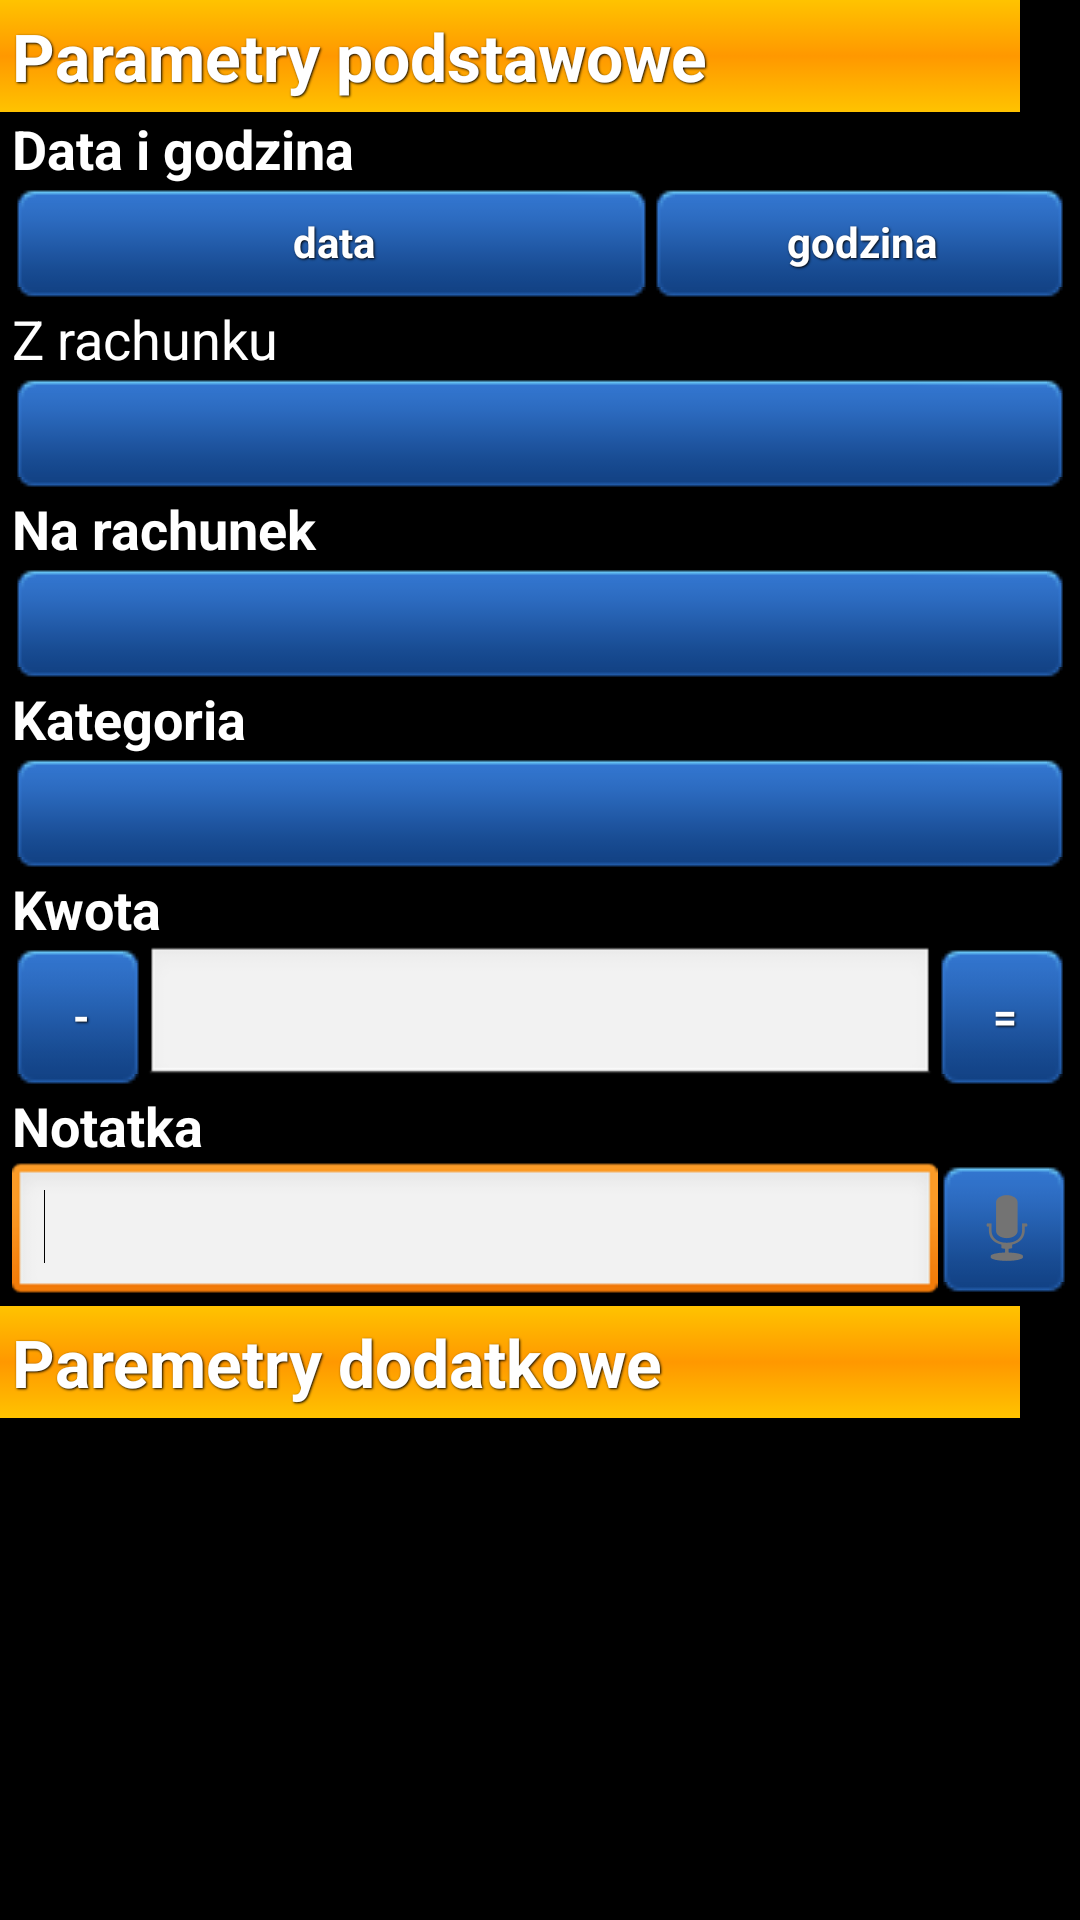

Where icons sit on this 1080×1920 app screen, as (left=x1, top=y1, right=x2, bottom=y2):
speak now: (left=943, top=1167, right=1065, bottom=1292)
